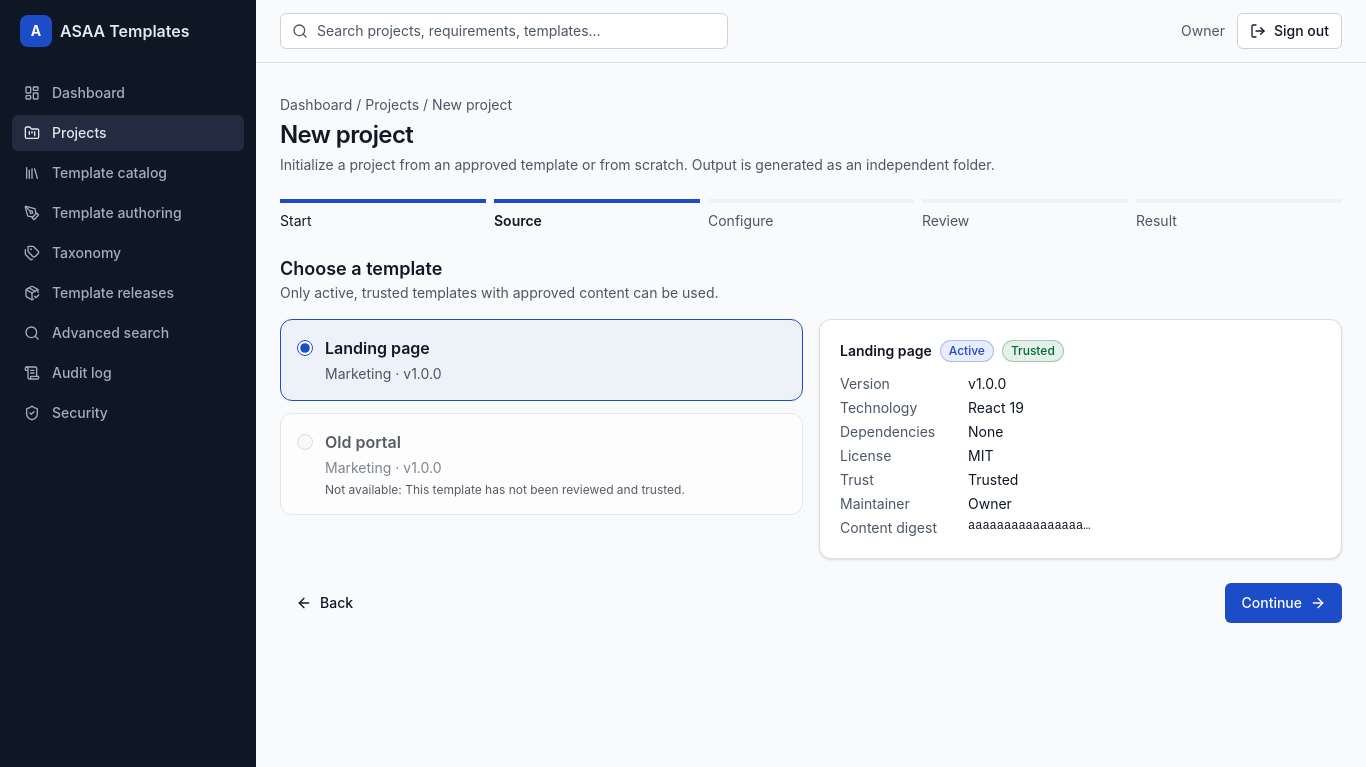
Test: new project wizard › only offers eligible templates and shows why others are blocked
Expected: the radio button labelled "Old portal" is disabled, [297,434,313,450]
Expected: the text "Not available: This template has not been reviewed and trusted" is shown, [325,482,685,497]
Click the button "Continue": click(1284, 603) [1226,583,1342,623]
(page scrolled)
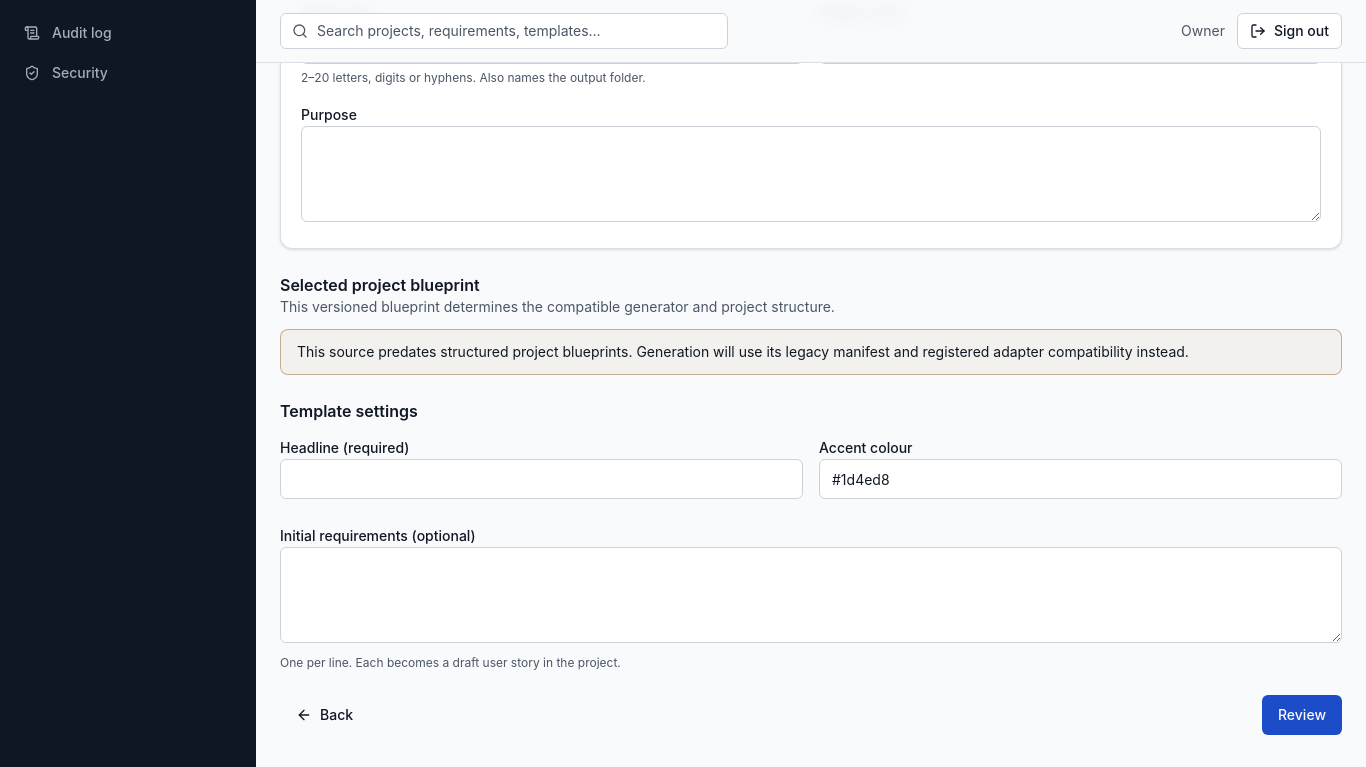
Expected: the field labelled "Accent colour" holds "#1d4ed8", [819,459,1342,499]
